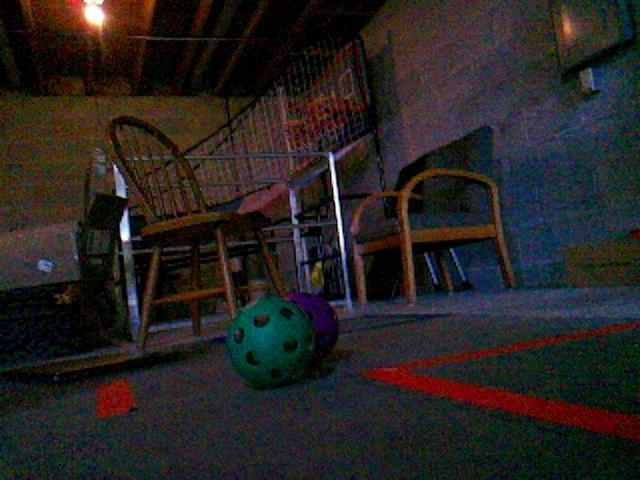Green: (223, 295, 313, 387)
Purple: (289, 296, 339, 358)
